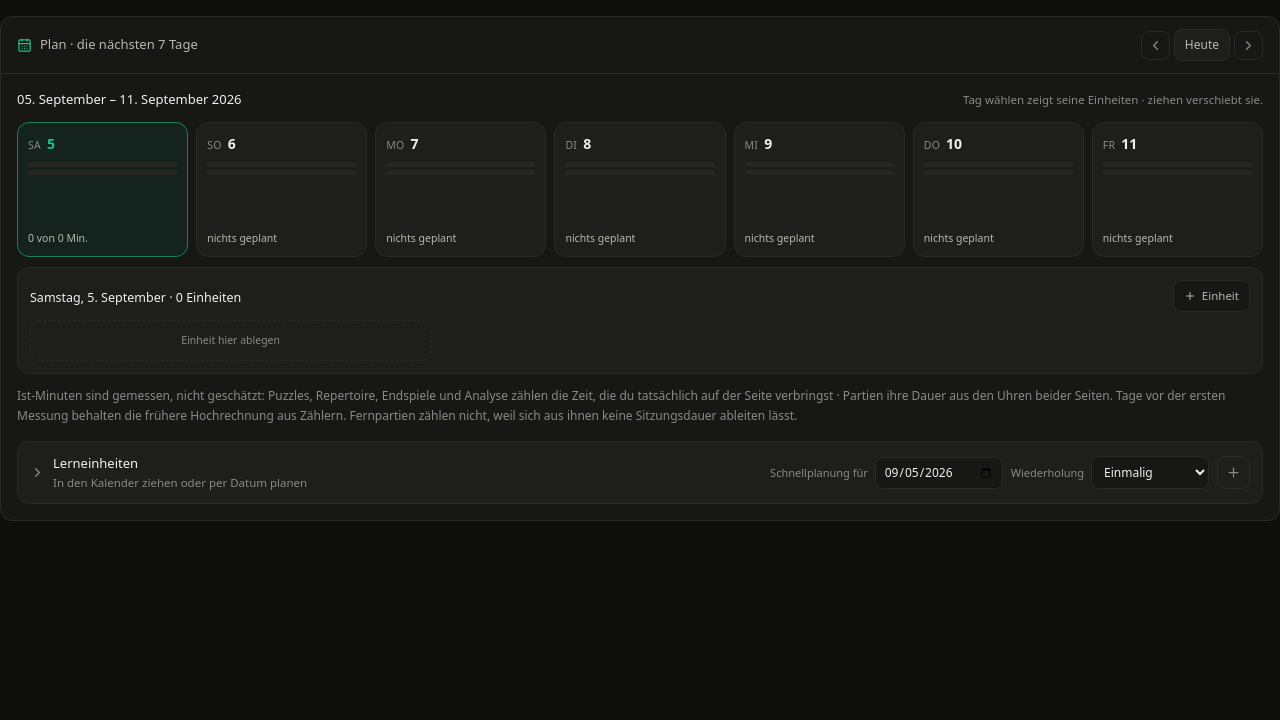
Test: Plantafel › fragt im Editor nach Bereichen statt nach einer Dauer
What coordinates should you click on to do the following:
click the button named "Lerneinheit hinzufügen"
I would click on:
 (1234, 473)
Its box is [1217, 456, 1250, 489].
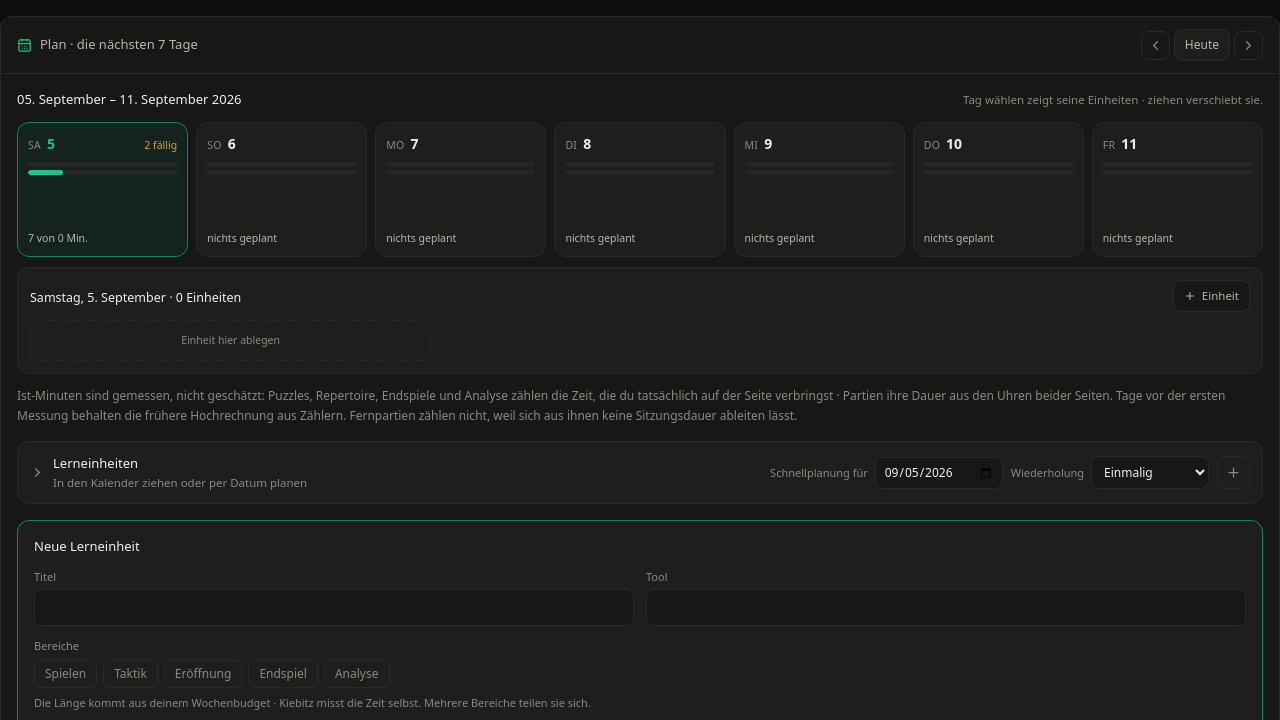
Expected: the text "Bereiche" is shown, [34, 638, 79, 653]
Expected: the button "Spielen" is shown, [34, 660, 97, 688]
Expected: the button "Taktik" is shown, [103, 660, 158, 688]
